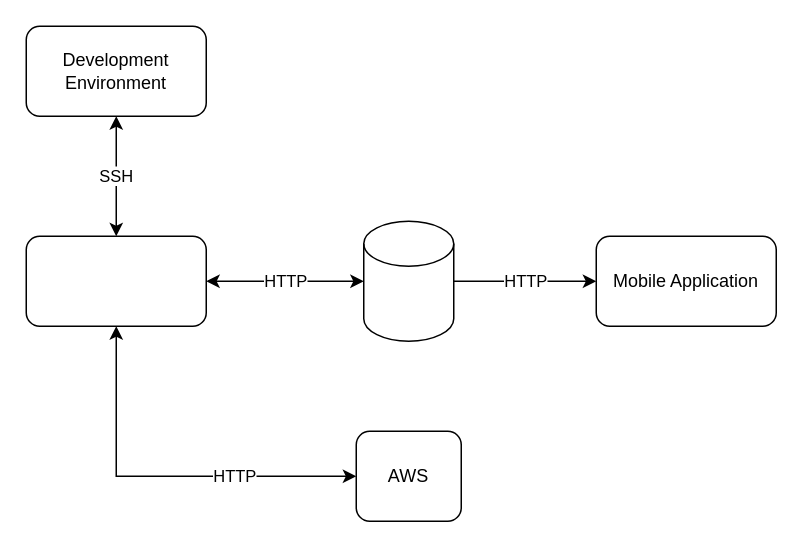
Image size: 803x548. Some labels were removed from this diagram. The box of each missing label's shape, as (x1, y1, x2, y2) in pixels:
Raspberry Pi: (25, 235, 206, 326)
SQL Database: (362, 220, 454, 341)
